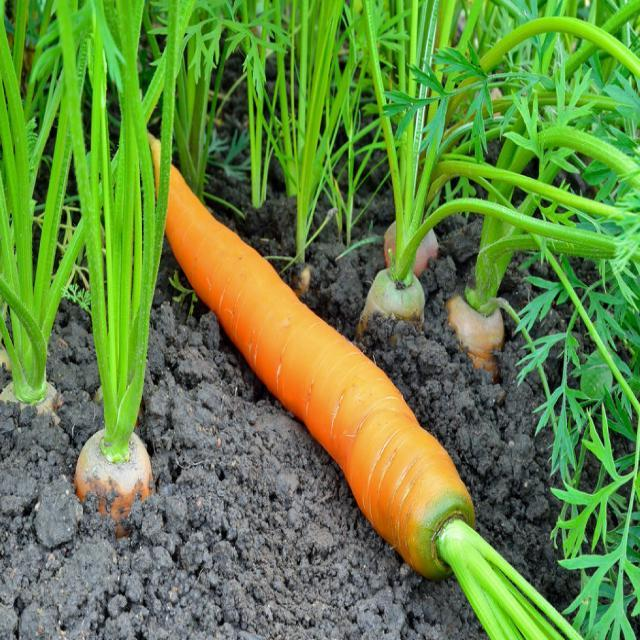carrot: (120, 106, 491, 581)
